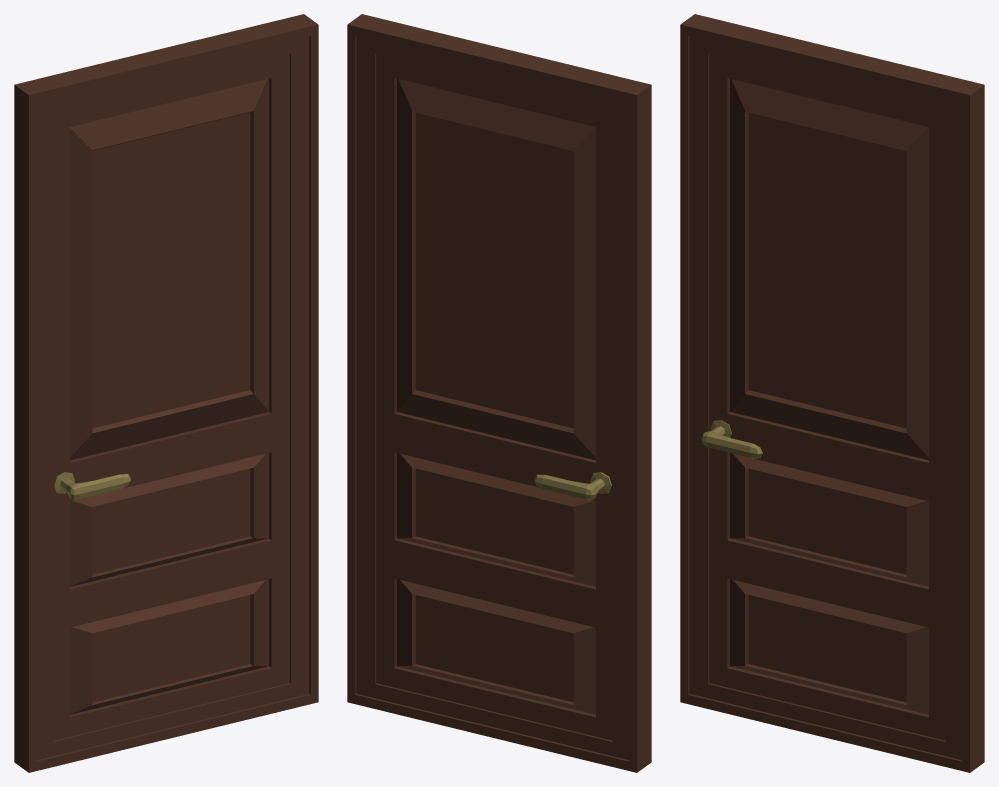
The model's file is Door.gltf.
3 views of the same model, side by side, from view 1: azimuth 30°, elevation 25°; view 2: azimuth 150°, elevation 25°; view 3: azimuth 330°, elevation 25° (orthographic).
Visible parts, largest first — view 1: DoorHandle; view 2: DoorHandle; view 3: DoorHandle.
Part boxes in pixels (bbox=[...]): DoorHandle: bbox=[14, 14, 318, 772]; DoorHandle: bbox=[347, 14, 651, 772]; DoorHandle: bbox=[680, 14, 984, 772].
Bounding box in the file's own units: 1.33 × 2.98 × 0.3199.
